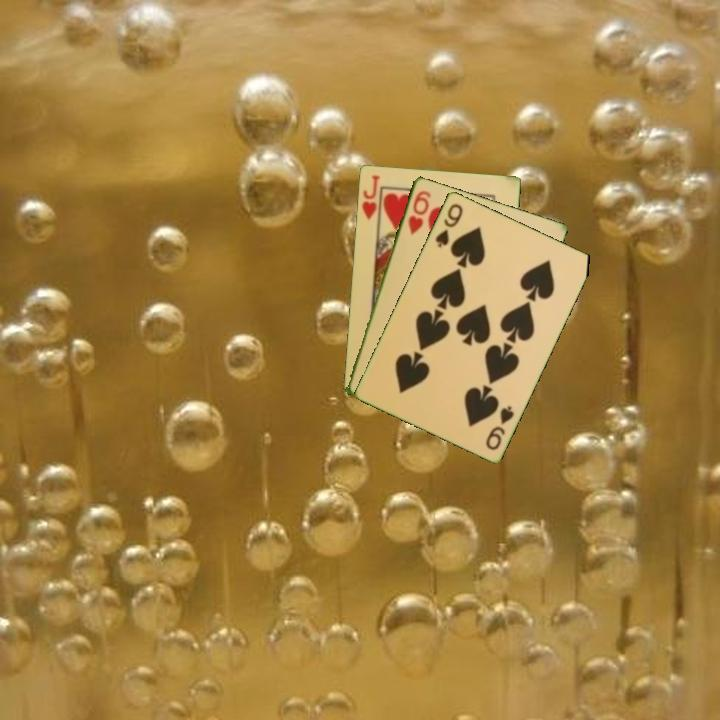6h: (404, 187, 433, 237)
9s: (431, 199, 466, 250), (482, 402, 517, 453)
Jh: (358, 171, 382, 222)
